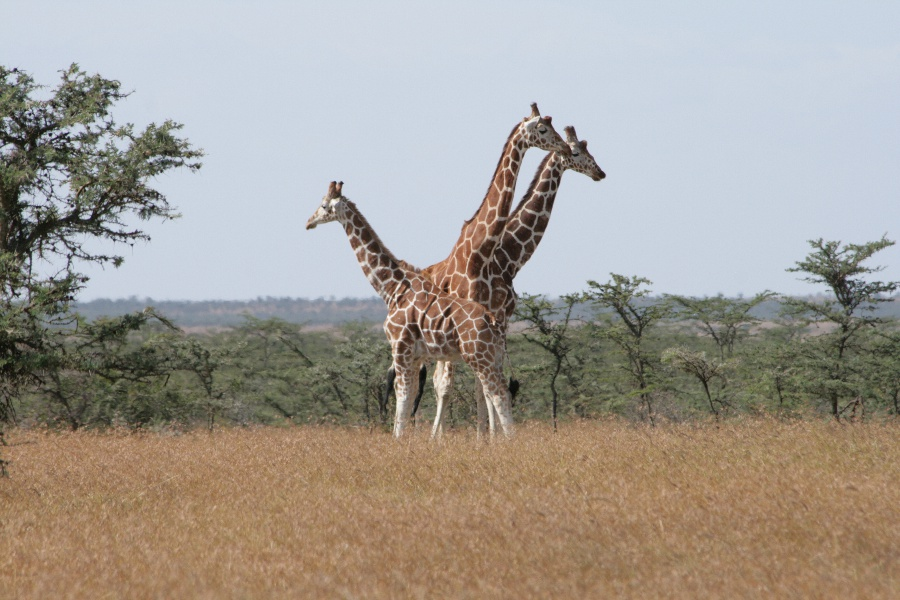giraffe: (306, 174, 524, 442), (413, 79, 587, 309), (476, 115, 624, 312)
